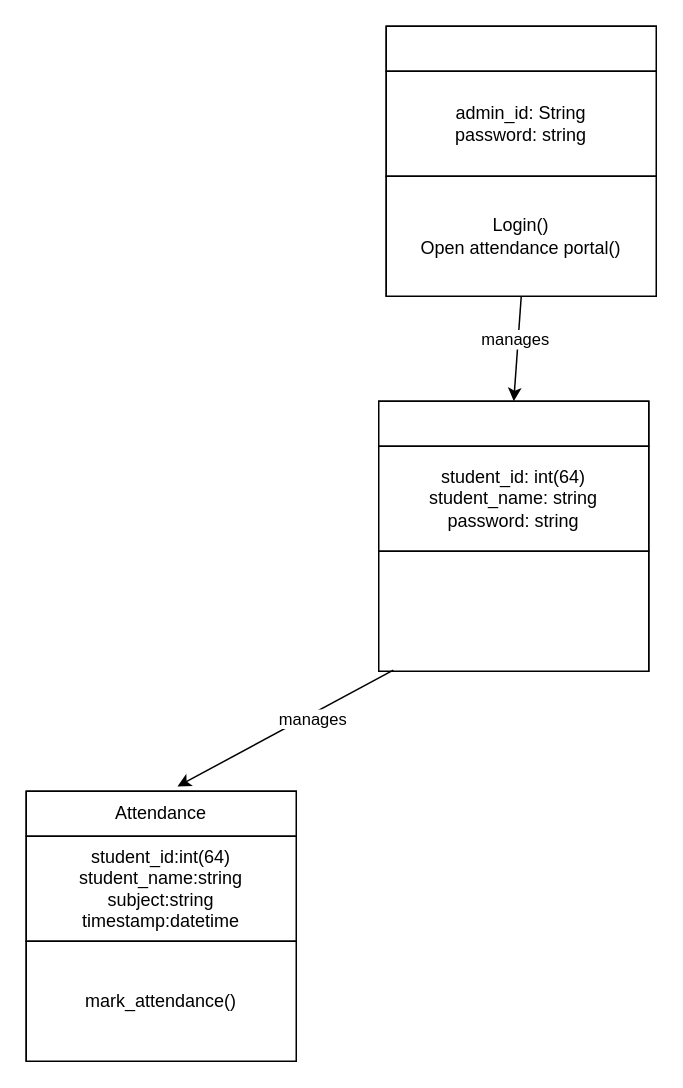
Some shapes in this 683 by 1088 pixel diagram are drawn without their labels. The shapes that lost their labels are listed below. From the top down, each one's centre as x and y in pixels, then its label:
At (520,48): "Admin".
At (513,423): "user".
At (513,610): "Login() register() resetpassword()".
